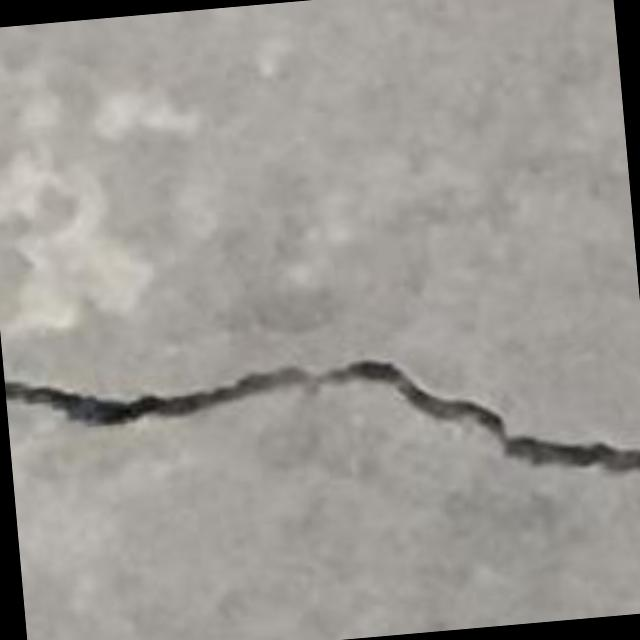crack: (5, 360, 639, 474)
peeling plaster: (0, 97, 153, 332)
